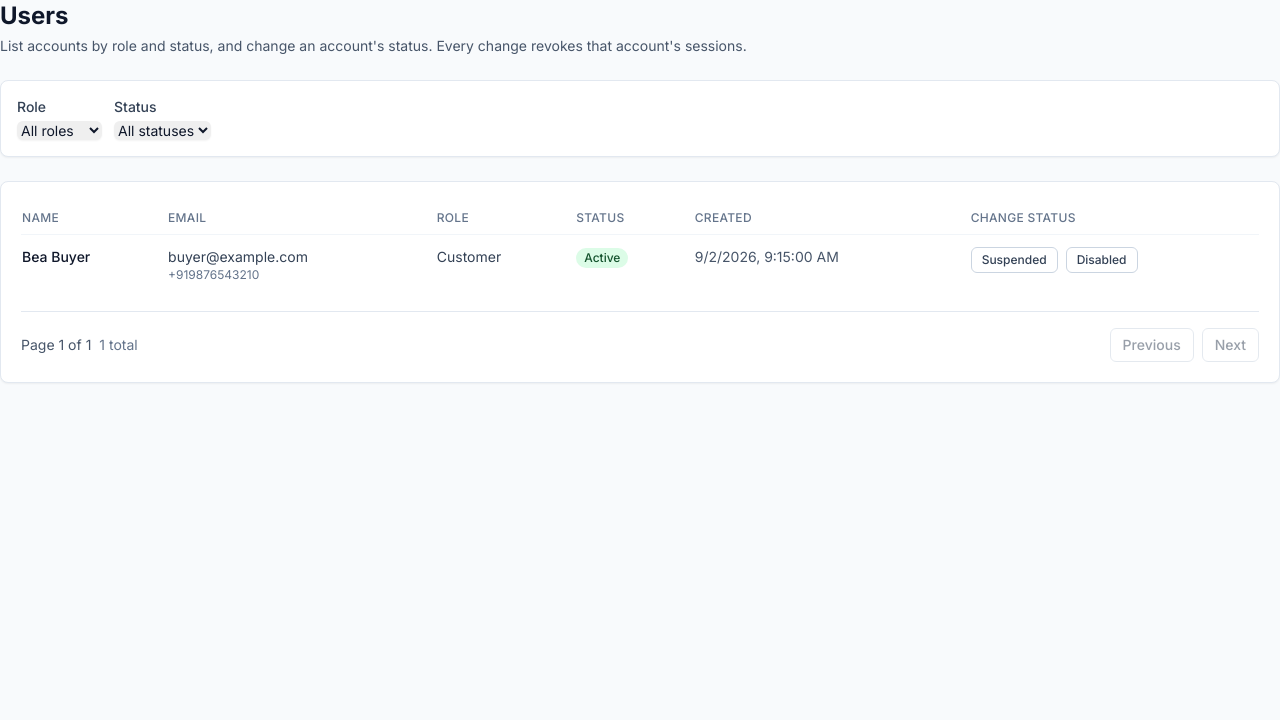
Test: AdminUsersPage › keeps the dialog open and shows the backend message on a 404
Expected: the table is shown, left=21, top=202, right=1259, bottom=295
Click the button "Suspended". click: (1014, 260)
box: left=971, top=247, right=1058, bottom=273
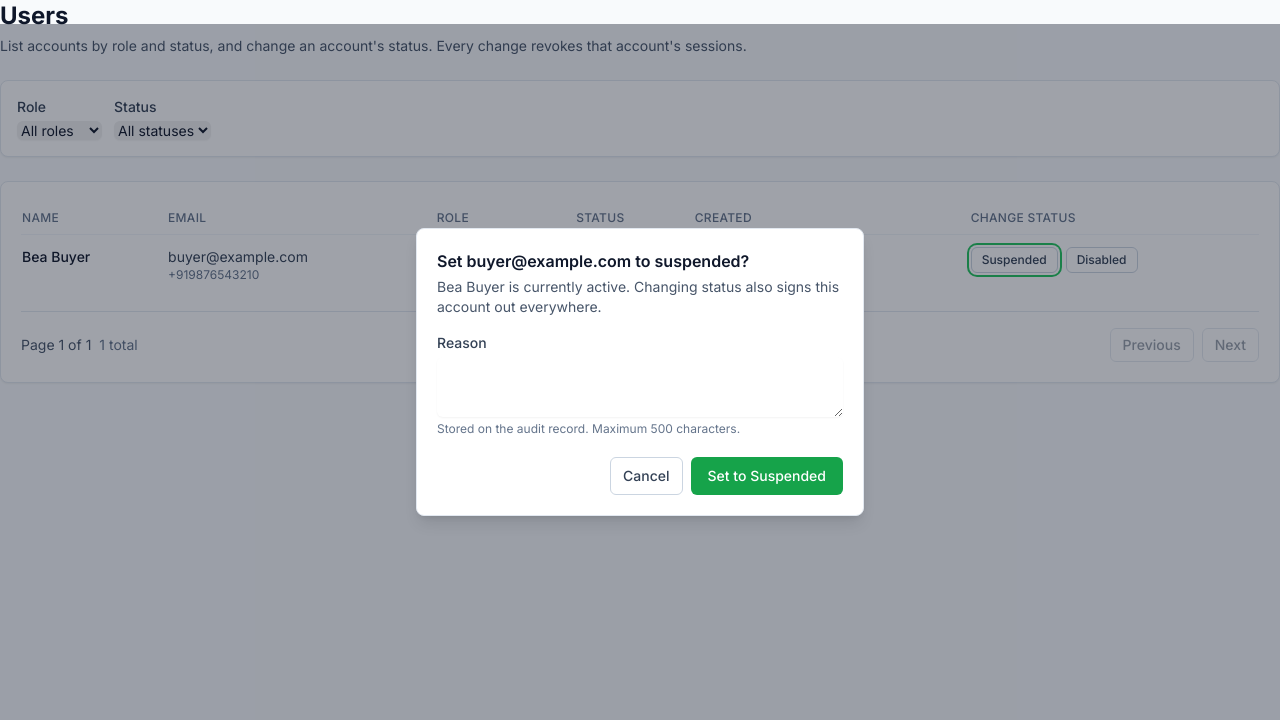
Type "Testing not found" into the text box labelled "Reason". click: (640, 387)
box: left=437, top=357, right=843, bottom=417
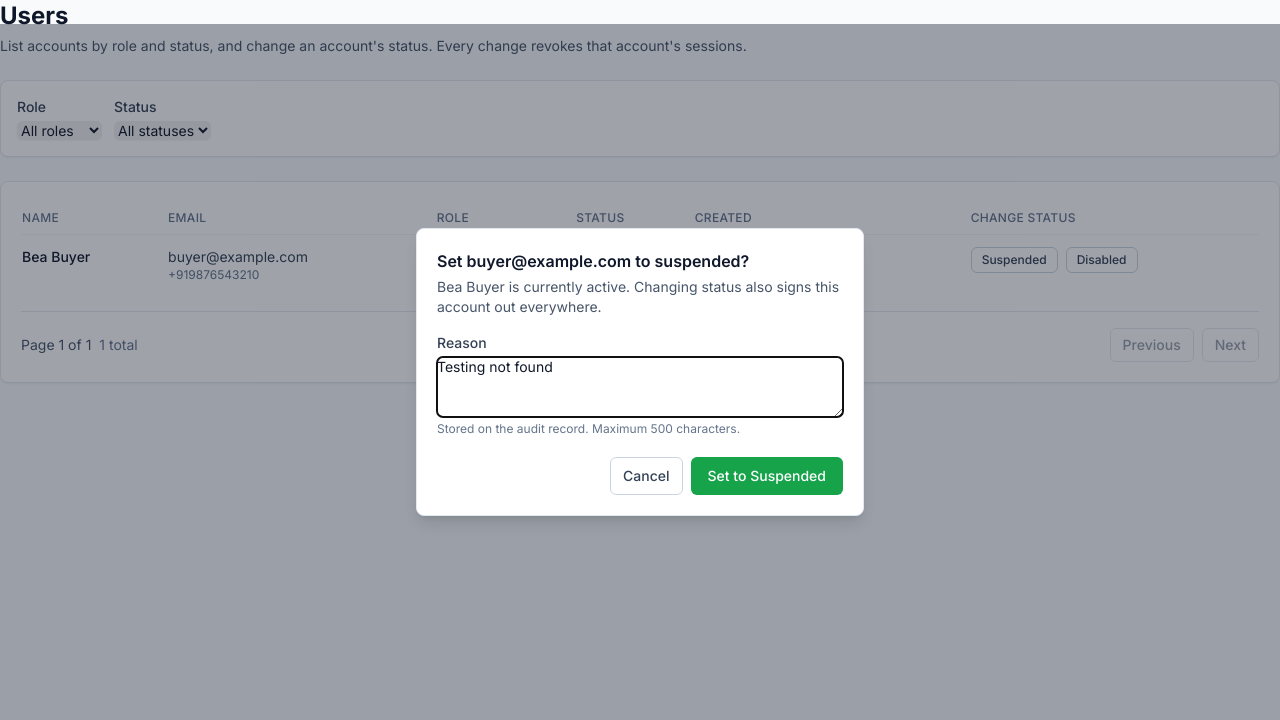
Click the button "Set to Suspended". click: (767, 476)
box: left=691, top=457, right=843, bottom=495
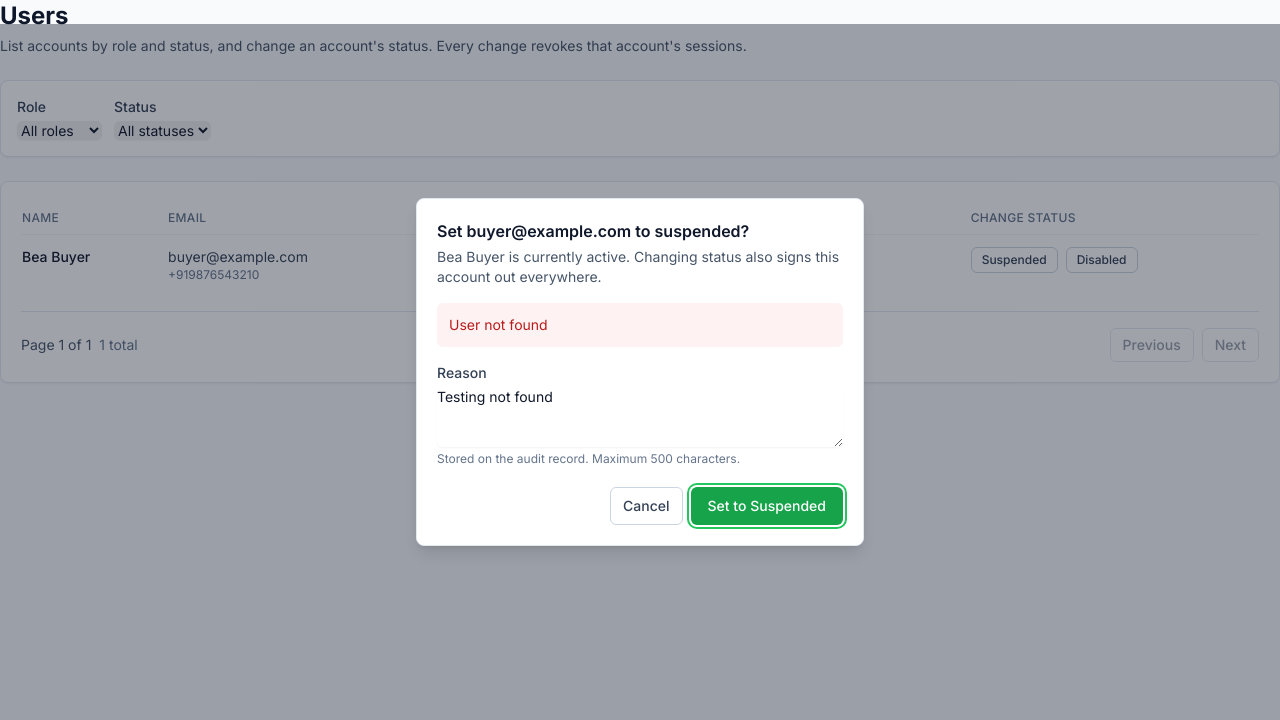
Now the text "User not found" is shown, box left=437, top=303, right=843, bottom=347
